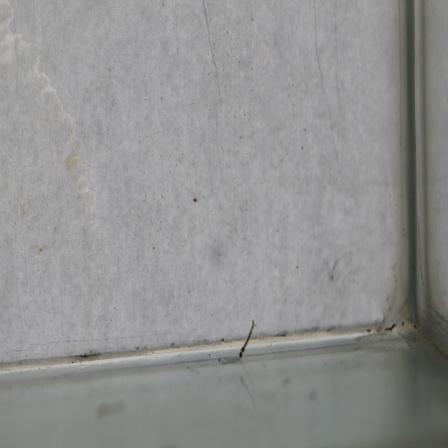Jentik-Nyamuk: (237, 318, 258, 365)
